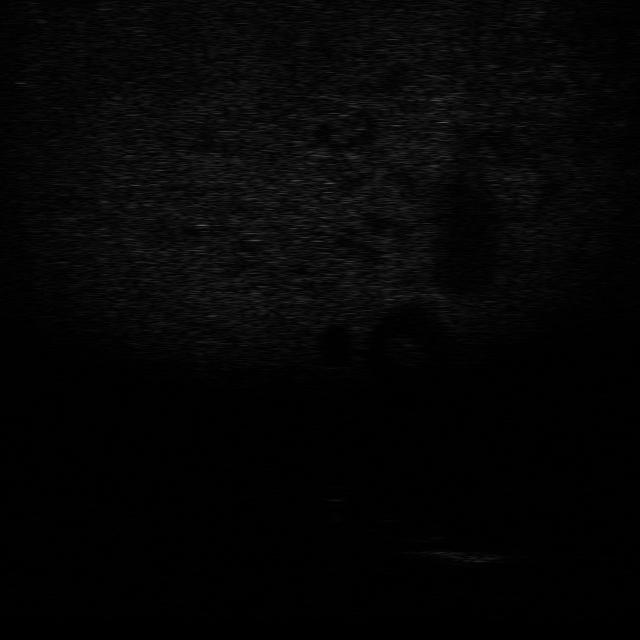ball: (314, 482, 352, 504)
metal bucket: (411, 547, 521, 569)
tyre: (364, 513, 458, 545)
